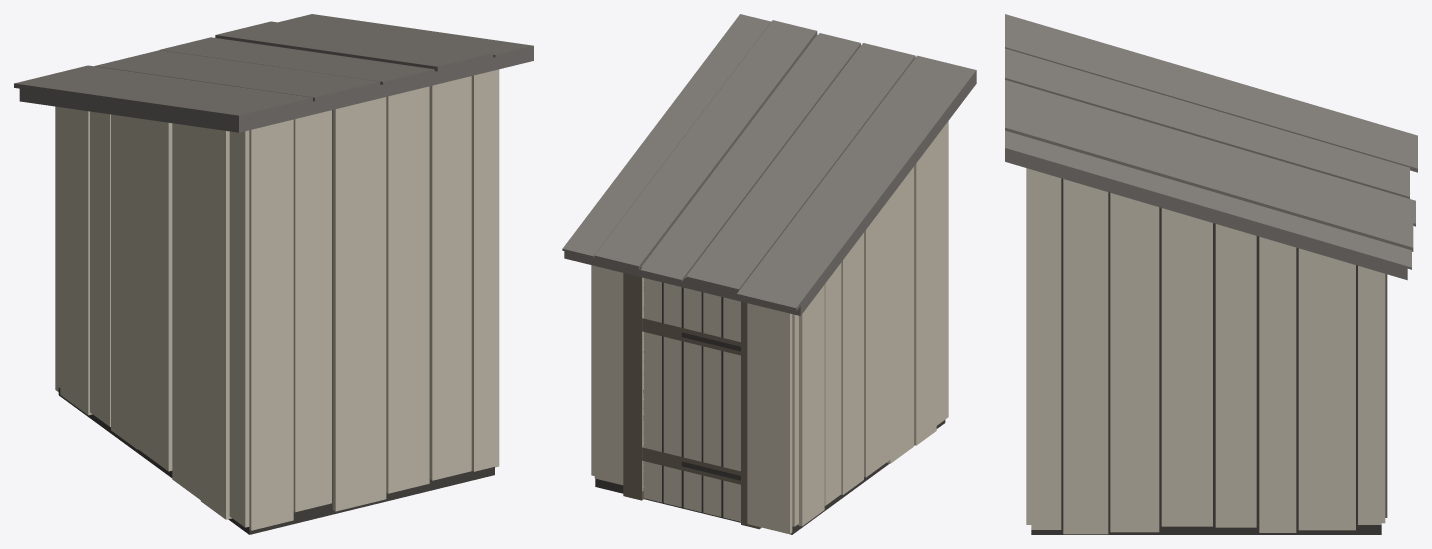
Rendered from recon_1835_blk_lake_clark_a3_04__inferred_1835.glb.
3 views of the same model, side by side, from view 1: azimuth 30°, elevation 25°; view 2: azimuth 150°, elevation 25°; view 3: azimuth 270°, elevation 25° (orthographic). The views are drawn at different scales.
Parts seen in each view (by area): view 1: recon_1835_blk_lake_clark_a3_04__inferred_1835; view 2: recon_1835_blk_lake_clark_a3_04__inferred_1835; view 3: recon_1835_blk_lake_clark_a3_04__inferred_1835.
Part boxes in pixels (x1,y1,x2,y2): recon_1835_blk_lake_clark_a3_04__inferred_1835: (14, 14, 533, 534); recon_1835_blk_lake_clark_a3_04__inferred_1835: (562, 14, 976, 534); recon_1835_blk_lake_clark_a3_04__inferred_1835: (1005, 14, 1417, 534).
Size of the model in its own units: 2.05 by 2.9 by 2.71.
